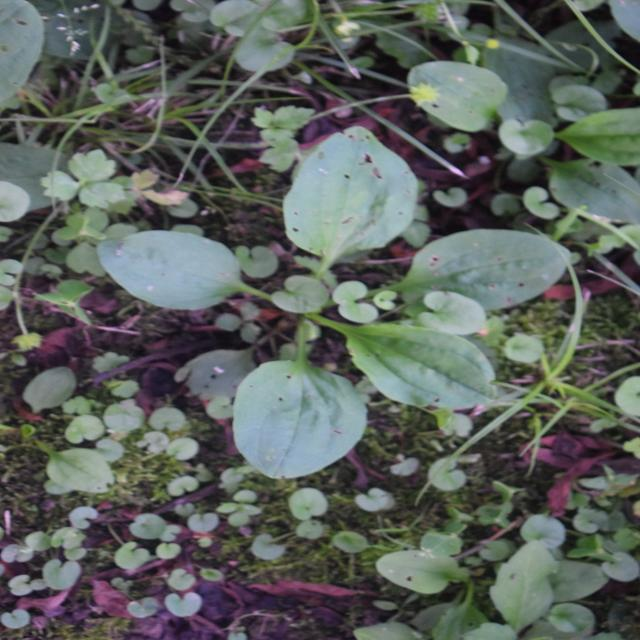plantain: (132, 68, 460, 490)
